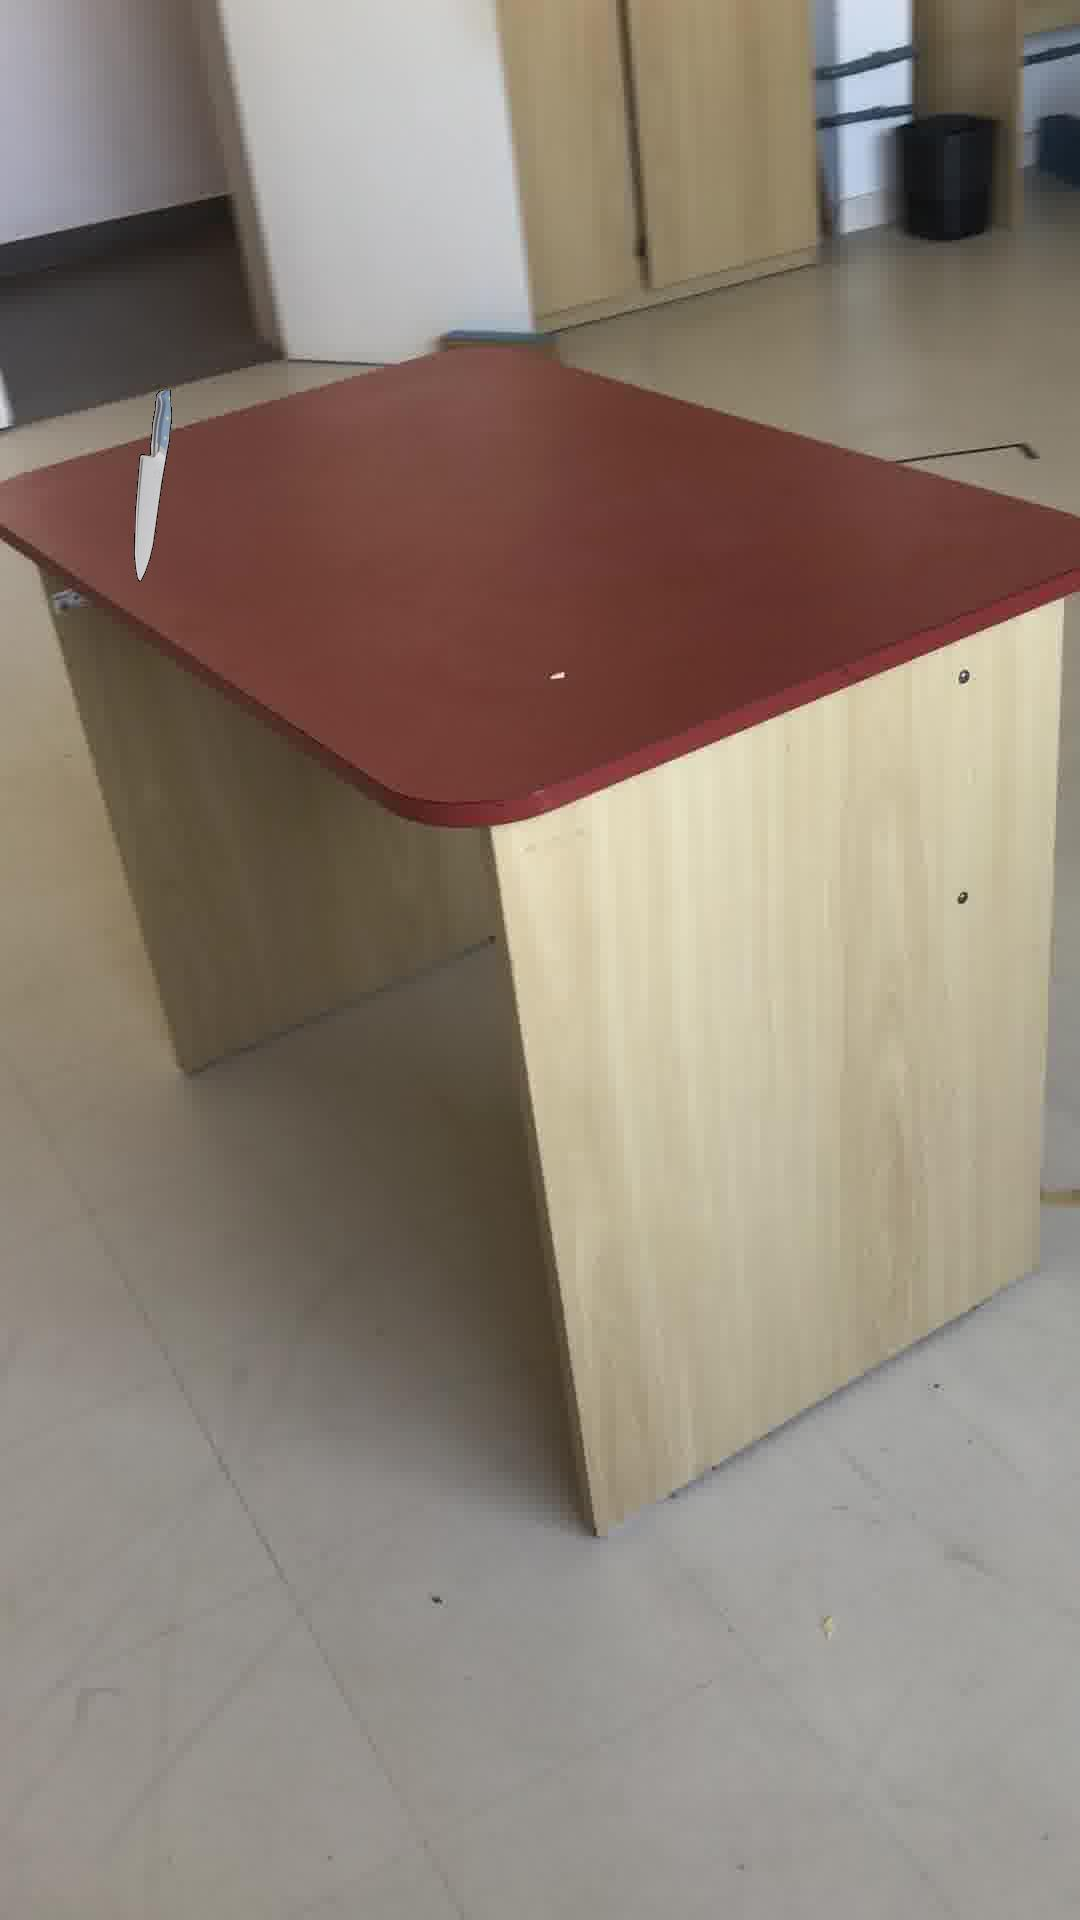knife: (132, 389, 170, 580)
